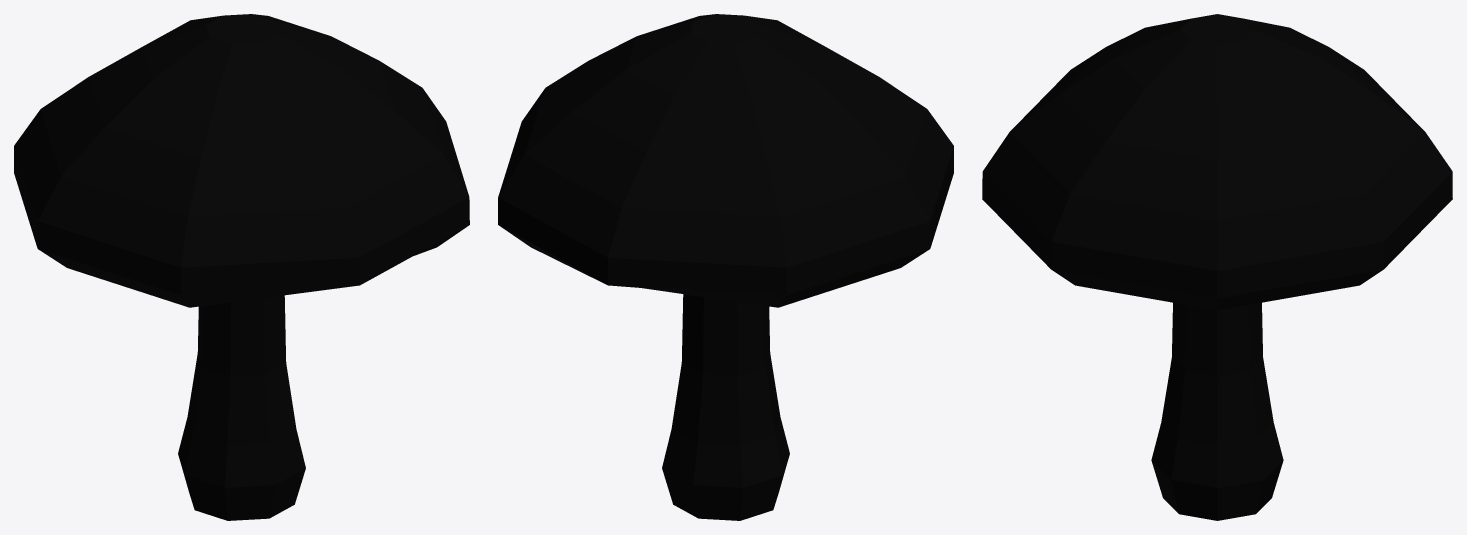
The model's file is Mushroom_1_Single.fbx.
3 views of the same model, side by side, from view 1: azimuth 30°, elevation 25°; view 2: azimuth 150°, elevation 25°; view 3: azimuth 270°, elevation 25° (orthographic).
Visible parts, largest first — view 1: Mushroom_1_Single; view 2: Mushroom_1_Single; view 3: Mushroom_1_Single.
Part boxes in pixels (left/top/right/bottom): Mushroom_1_Single: left=14, top=14, right=469, bottom=520; Mushroom_1_Single: left=498, top=14, right=953, bottom=520; Mushroom_1_Single: left=982, top=14, right=1452, bottom=520.
Size of the model in its own units: 0.122 by 0.134 by 0.122.
